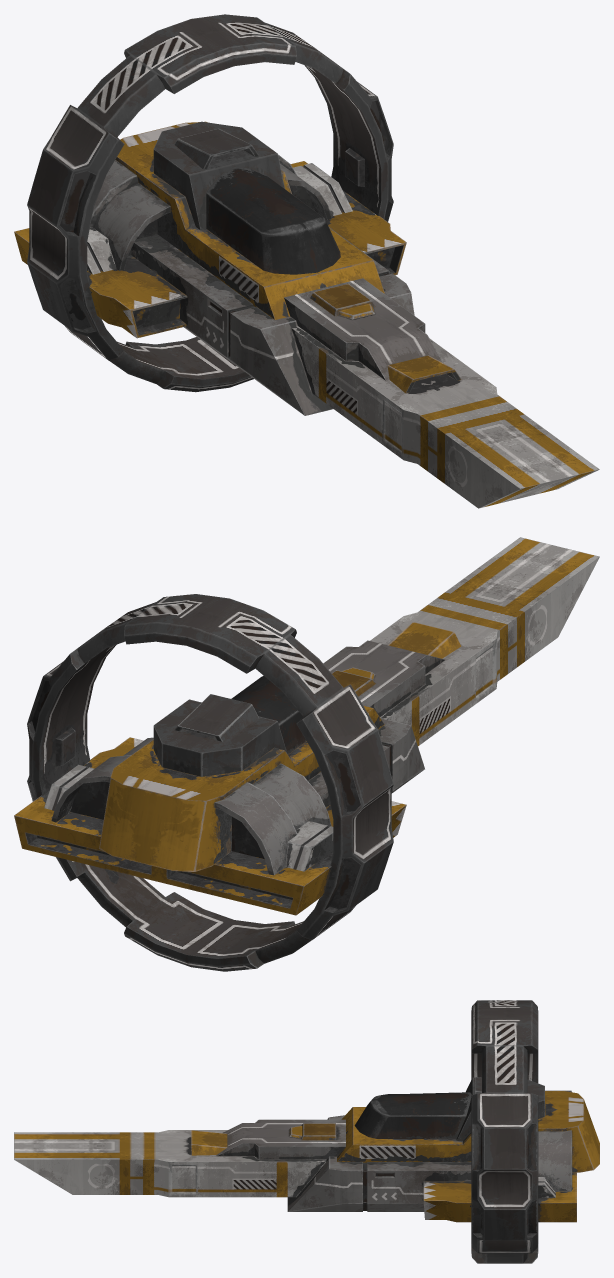
Rendered from Zenith.glb.
The picture shows the model from 3 angles, top to bottom: view 1: azimuth 30°, elevation 25°; view 2: azimuth 150°, elevation 25°; view 3: azimuth 270°, elevation 25°; orthographic projection. The views are drawn at different scales.
Visible parts, largest first — view 1: Zenith; view 2: Zenith; view 3: Zenith.
Boxes of the visible parts, left/top/right/bottom form: Zenith: left=14, top=14, right=599, bottom=508; Zenith: left=14, top=537, right=599, bottom=971; Zenith: left=14, top=1000, right=599, bottom=1263.
Size of the model in its own units: 5.63 by 5.43 by 12.07.
Materials: 1 (1 with a texture image).
